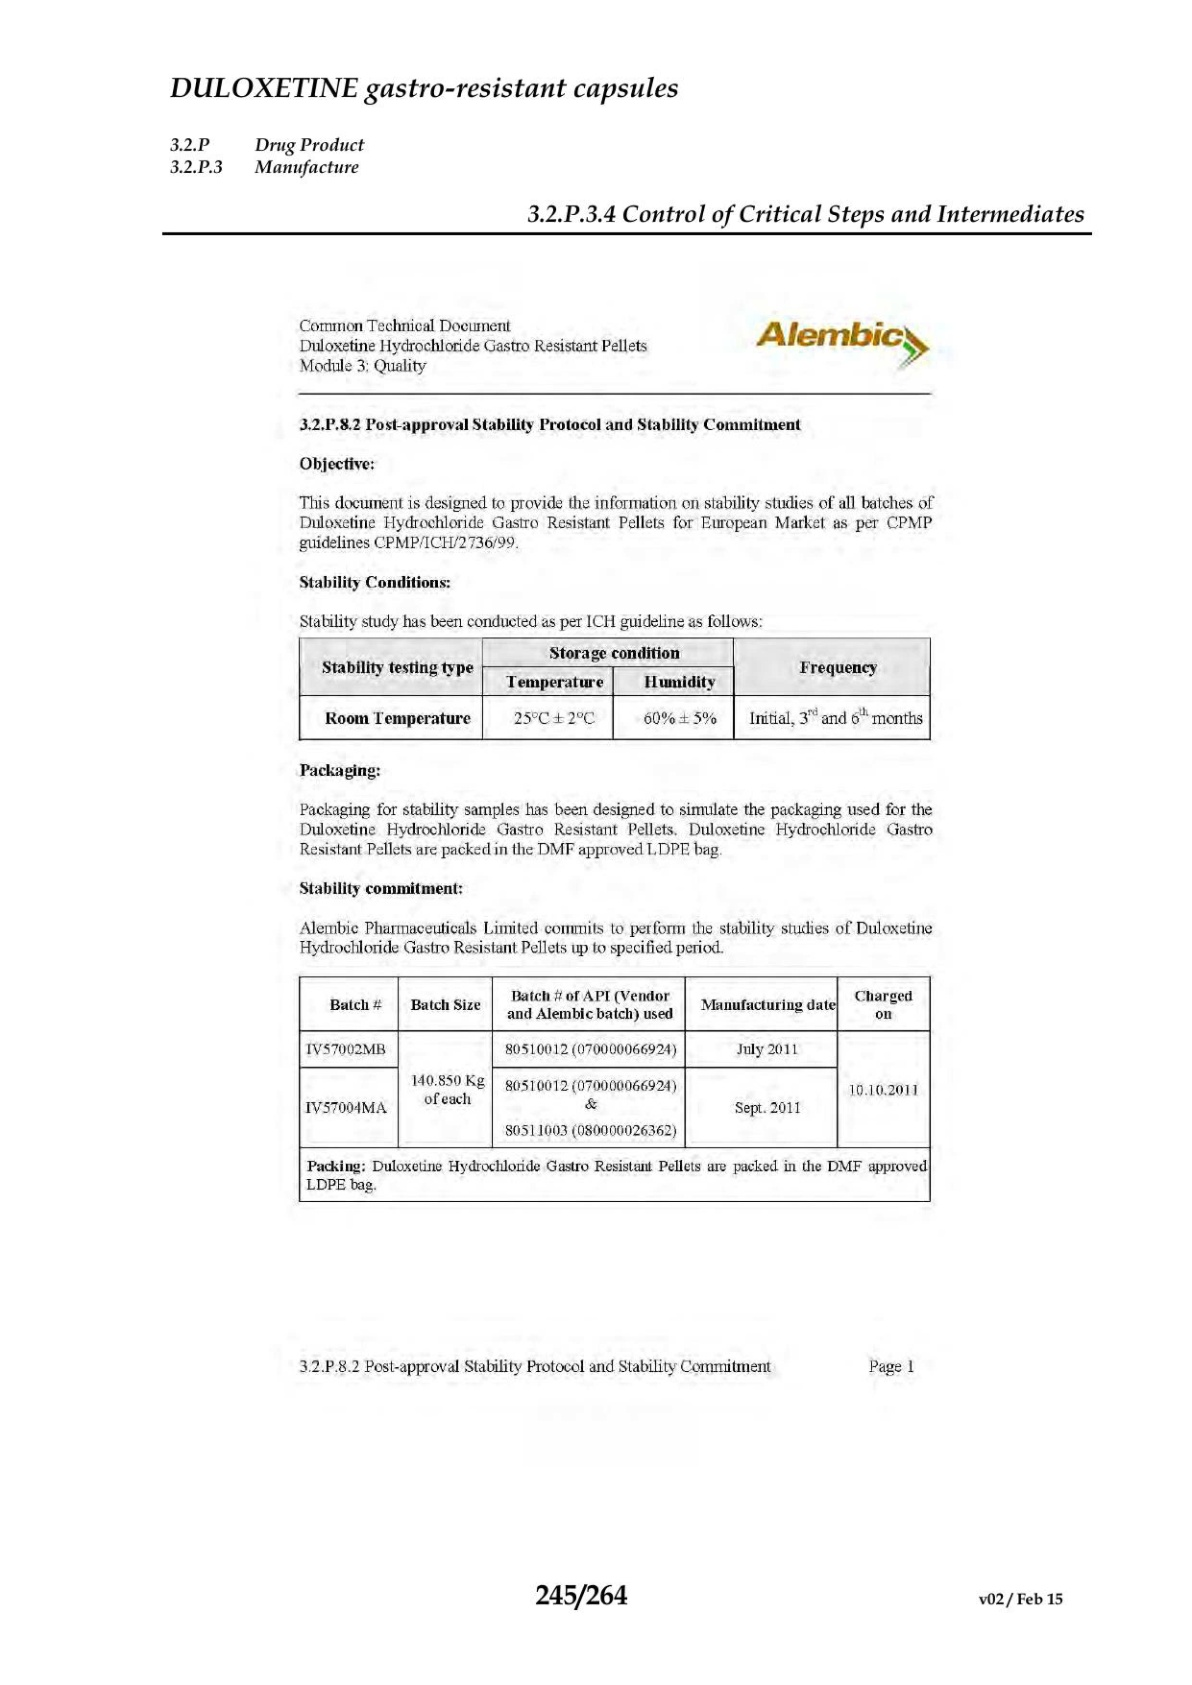merged_cells: (297, 975, 930, 1202), (297, 636, 931, 741)
